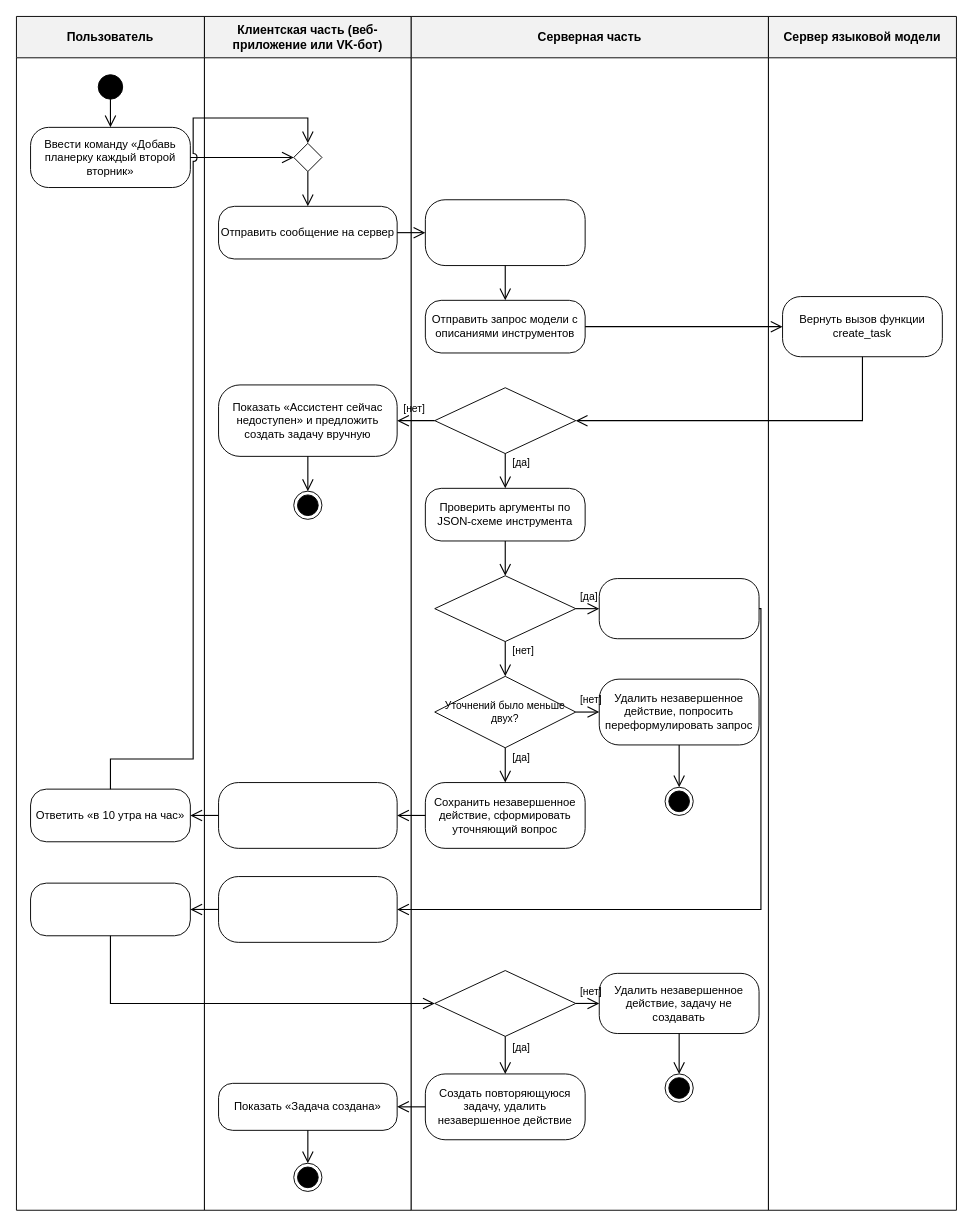
Image size: 973x1227. Some labels were removed from this diagram. The shapes that lost their labels are listed below. From the top down, each one's centre as x and y in pixels, then its label:
the point at 504,232: Собрать контекст диалога: история, незавершенное действие, ближайшие задачи
the point at 505,420: Вызов функции получен?
the point at 505,608: Время задачи указано?
the point at 678,608: Сохранить действие, сформировать карточку подтверждения
the point at 307,815: Показать вопрос и кнопки «Весь день», «10:00», «Другое время»
the point at 110,909: Нажать «Принять» или «Отклонить»
the point at 307,909: Показать карточку: «Планерка», каждый 2-й вторник, 10:00–11:00
the point at 505,1003: Нажата «Принять»?
